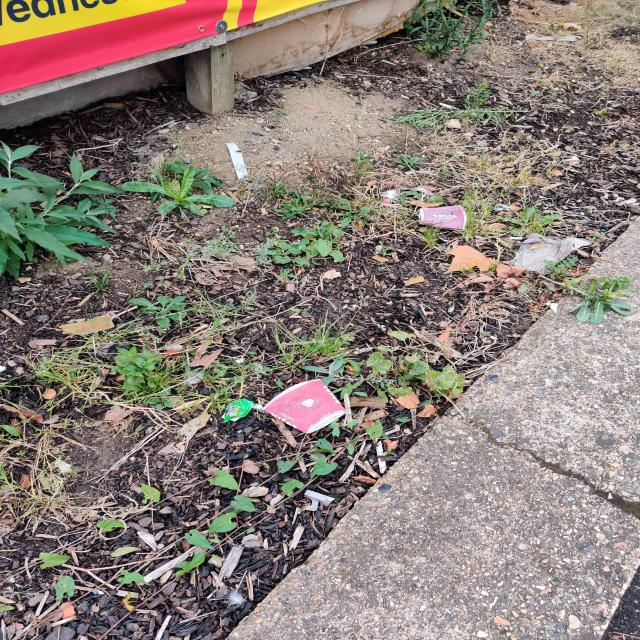litter: (255, 366, 349, 438), (416, 204, 469, 231)
